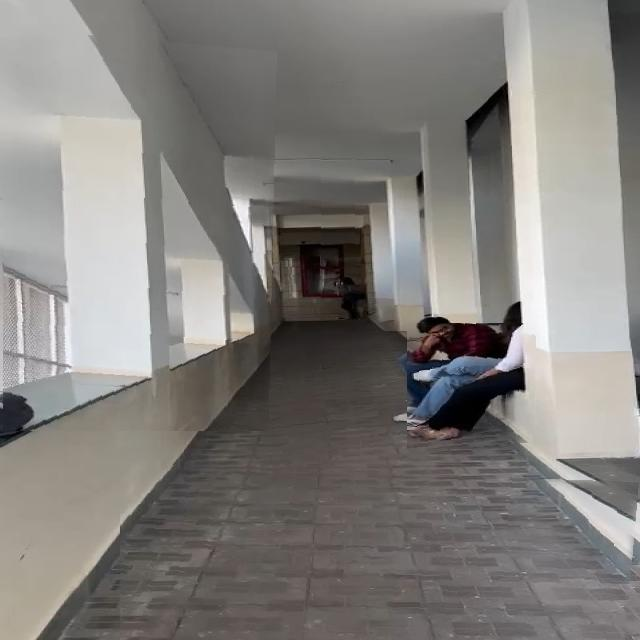floor: (120, 463, 639, 640), (262, 331, 407, 470)
moving_object: (403, 323, 537, 454)
wall: (3, 27, 277, 431), (304, 136, 490, 307)
